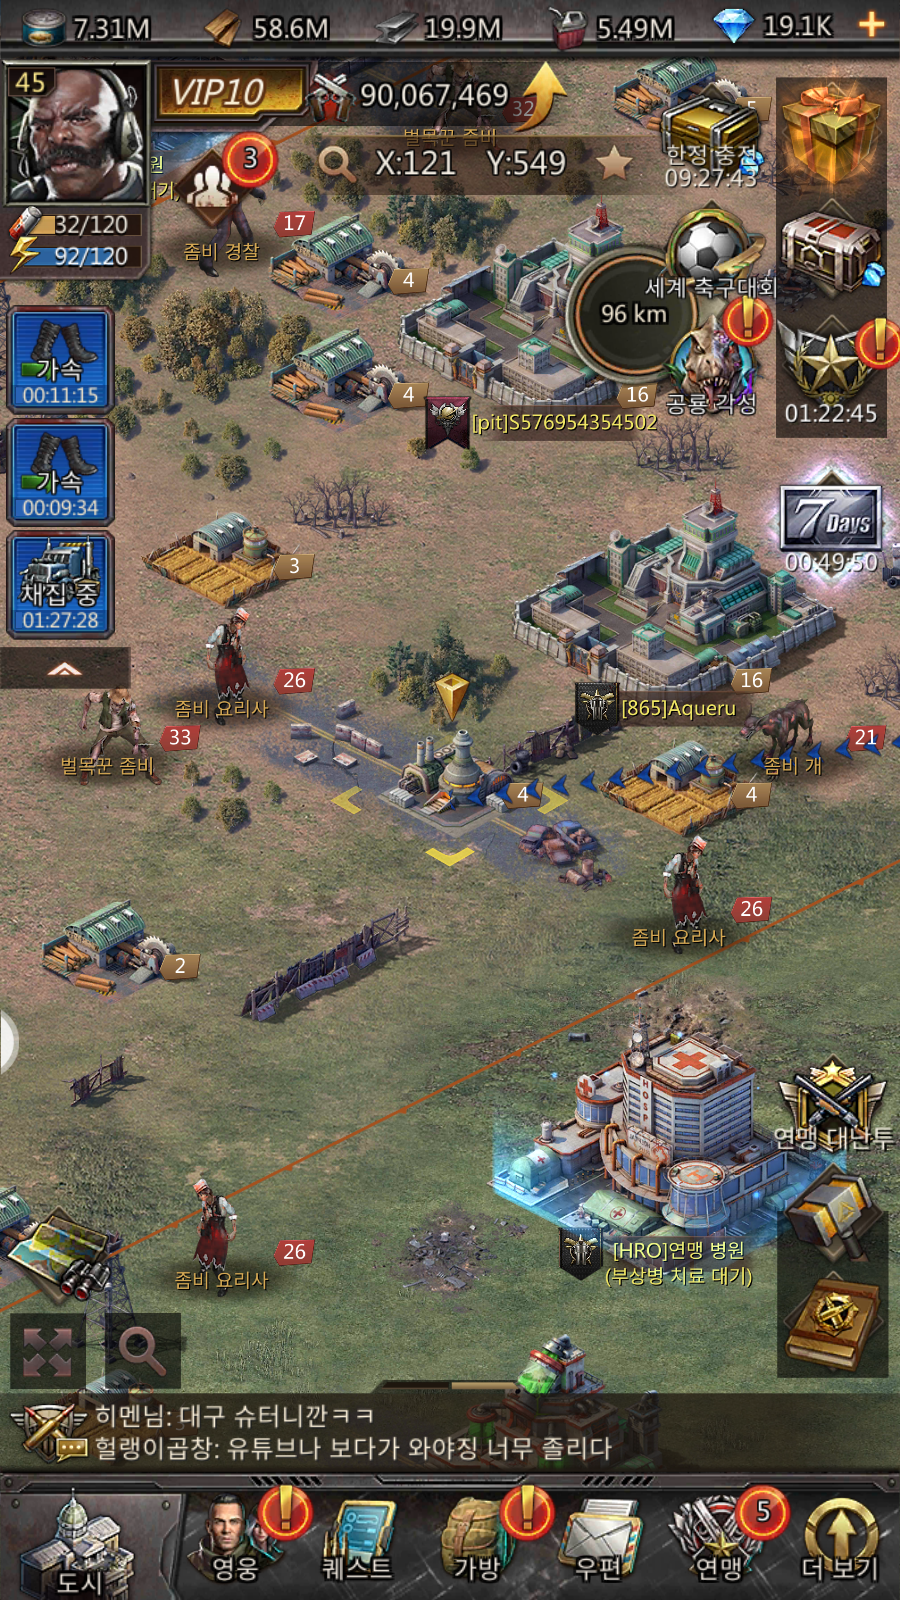city: (12, 1493, 170, 1600)
occupied_steel: (310, 656, 585, 898)
open_panel: (91, 1293, 201, 1405)
troops_cnt_3: (159, 120, 285, 251)
